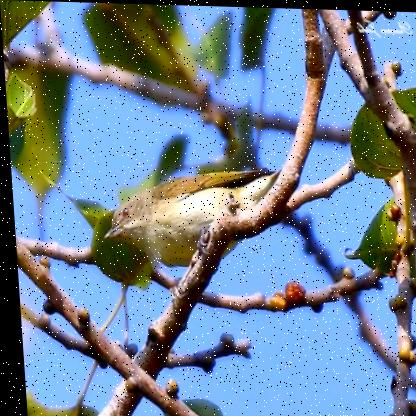Burung: (96, 159, 287, 267)
